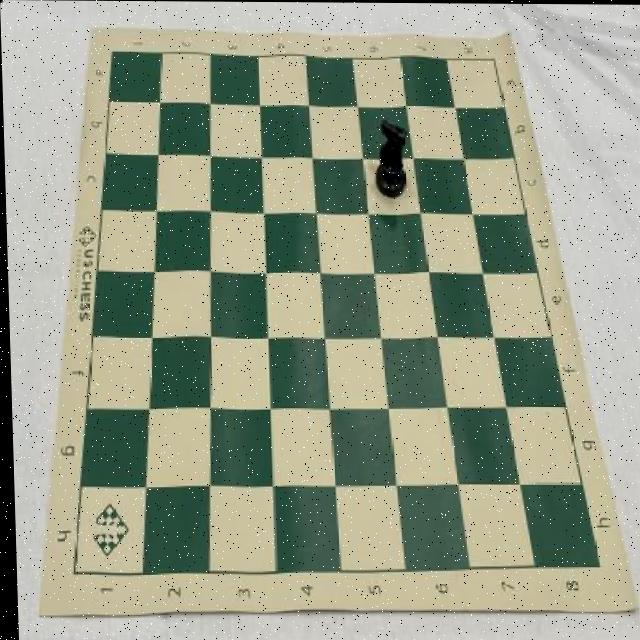black-king: (372, 118, 408, 201)
